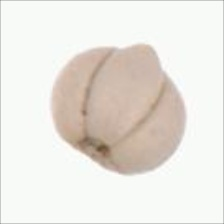L5: (80, 42, 169, 146), (70, 136, 118, 170)
L6: (48, 43, 190, 177)
